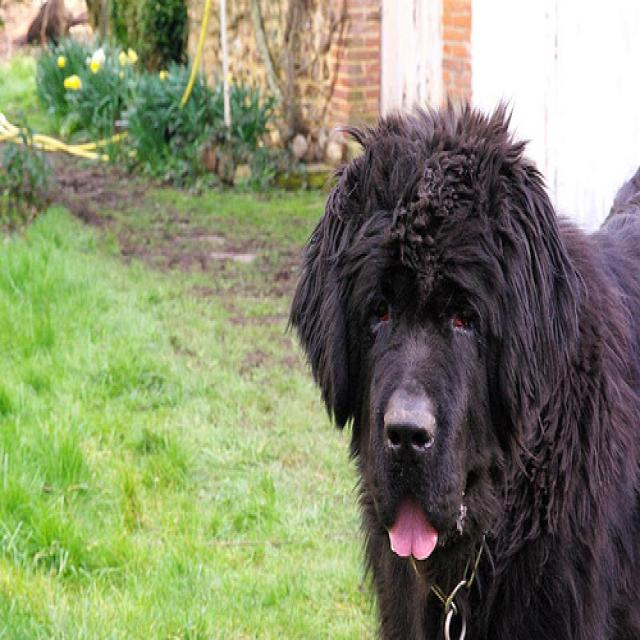dog-newfoundland: (280, 101, 637, 636)
